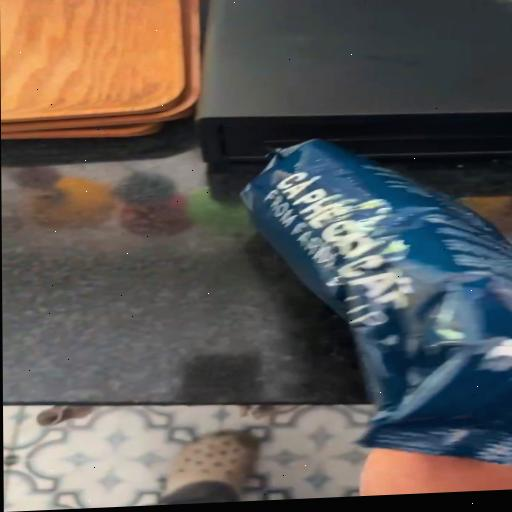cafe_hat: (243, 140, 512, 465)
